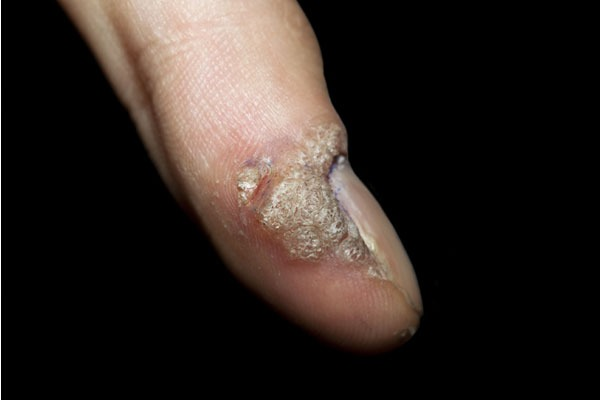Warts: (222, 90, 383, 277)
